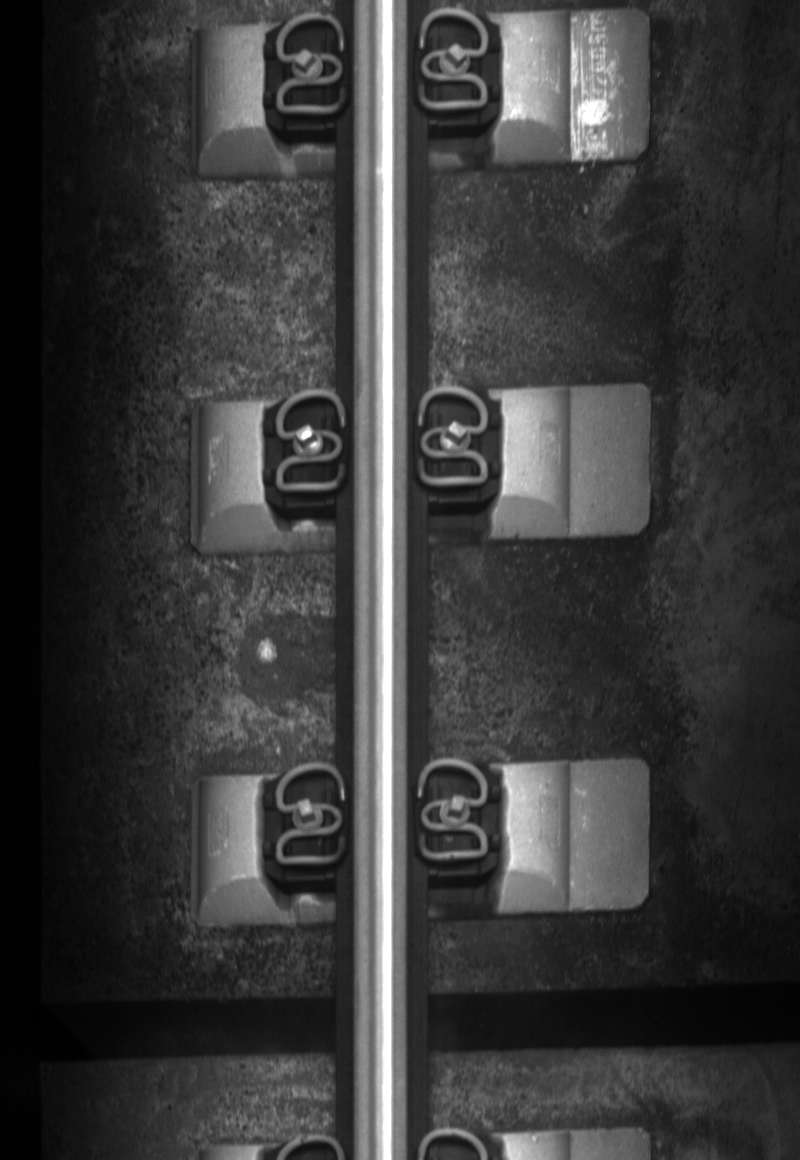l_faster: (268, 755, 351, 873), (269, 5, 351, 122), (270, 384, 351, 493)
r_faster: (410, 753, 497, 871), (409, 383, 496, 493), (413, 4, 493, 119)
